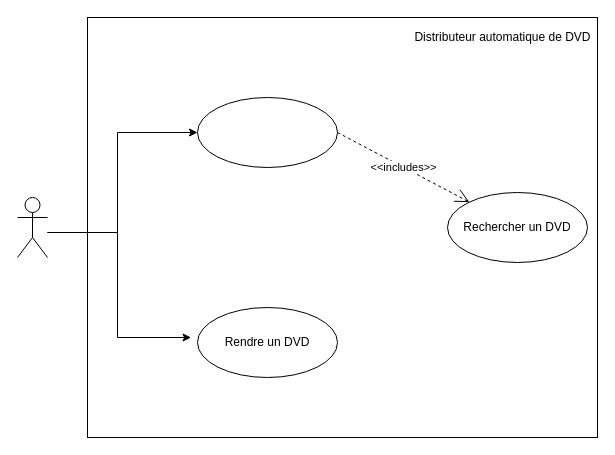
Image size: 615x455. Some labels were removed from this diagram. The shapes that lost their labels are listed below. From the top down, each one's centre as x and y in pixels, then its label:
At (267,132): "Louer un DVD".
At (32,227): "Client".
